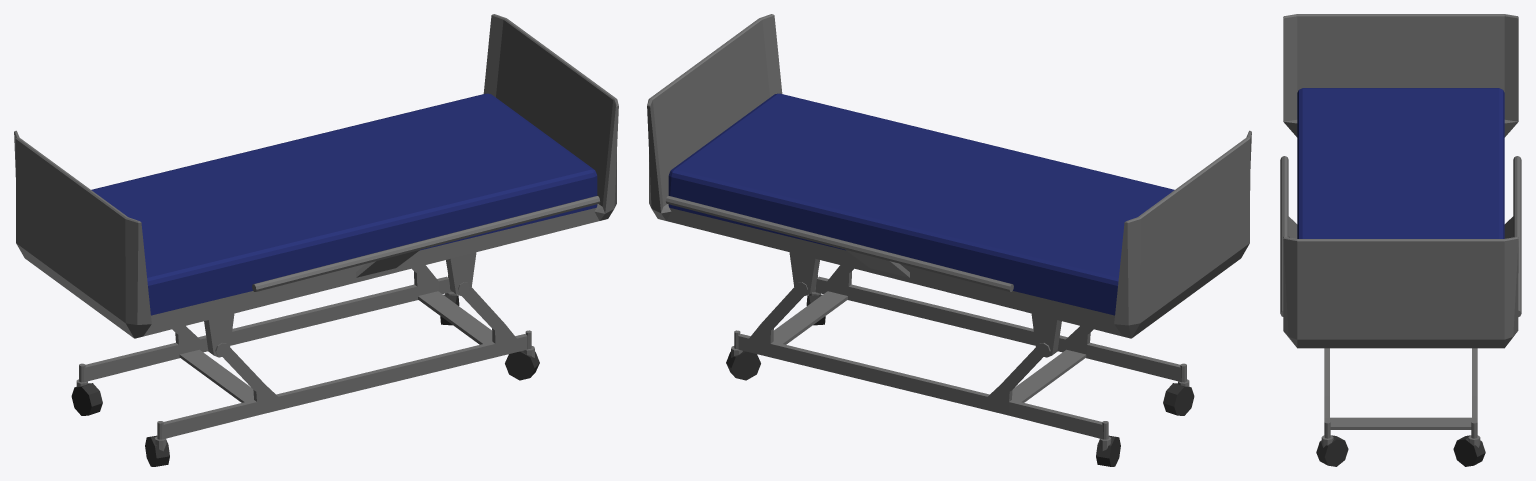
The model's file is Bed.fbx.
The picture shows the model from 3 angles, left to right: view 1: azimuth 30°, elevation 25°; view 2: azimuth 150°, elevation 25°; view 3: azimuth 270°, elevation 25°; orthographic projection. The views are drawn at different scales.
Parts seen in each view (by area): view 1: Cube; view 2: Cube; view 3: Cube.
Part boxes in pixels (<box>): Cube: <box>14,14,618,466</box>; Cube: <box>647,14,1251,466</box>; Cube: <box>1280,14,1521,466</box>.
Bounding box in the file's own units: 302 × 161 × 136.
